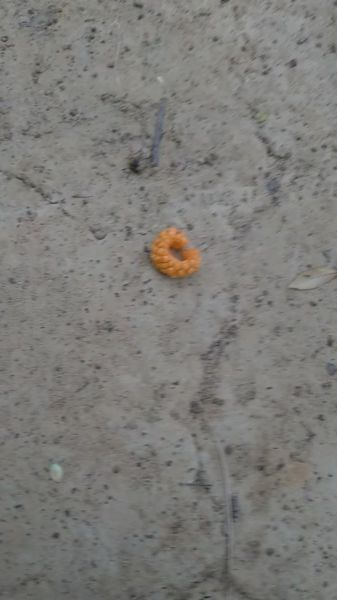eggs: (146, 220, 208, 281)
